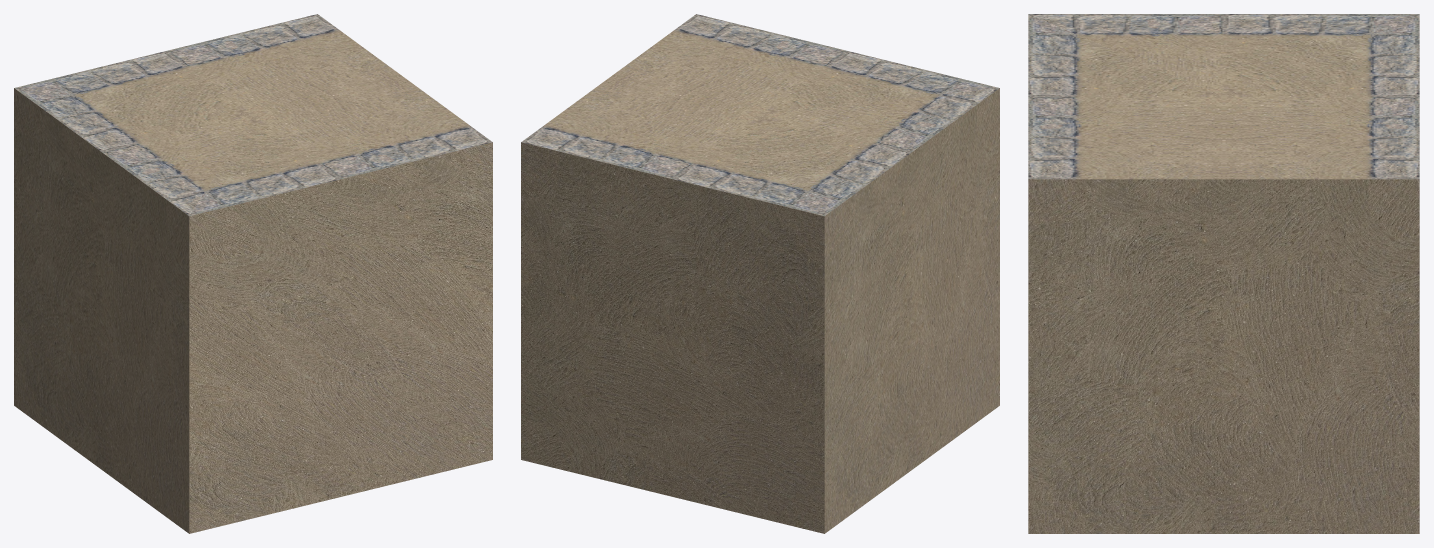
Rendered from BlockNormalT.fbx.
3 views of the same model, side by side, from view 1: azimuth 30°, elevation 25°; view 2: azimuth 150°, elevation 25°; view 3: azimuth 270°, elevation 25° (orthographic). The views are drawn at different scales.
Visible parts, largest first — view 1: blockNormalT; view 2: blockNormalT; view 3: blockNormalT.
Part boxes in pixels (left/top/right/bottom): blockNormalT: left=14, top=14, right=492, bottom=533; blockNormalT: left=521, top=14, right=999, bottom=533; blockNormalT: left=1028, top=14, right=1419, bottom=533.
Bounding box in the file's own units: 100 × 100 × 100.
